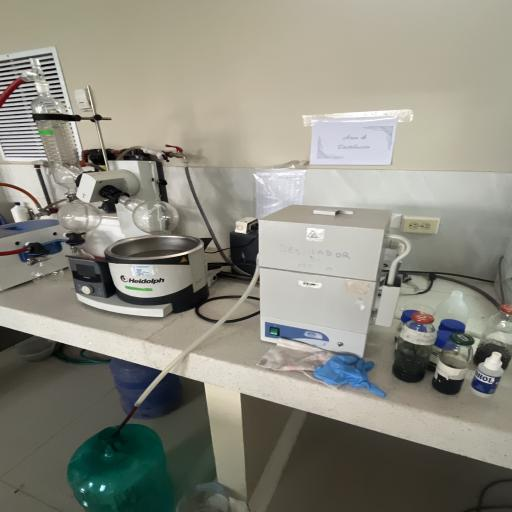Sistema_Rotaevaporacion: (0, 58, 235, 319)
